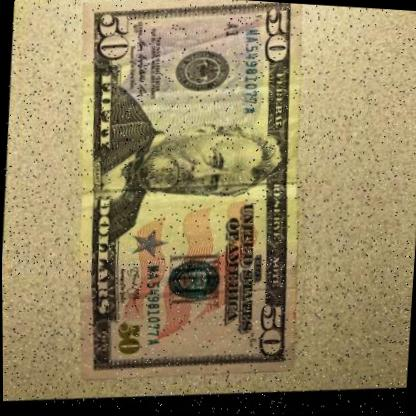fifty-front: (57, 0, 318, 397)
